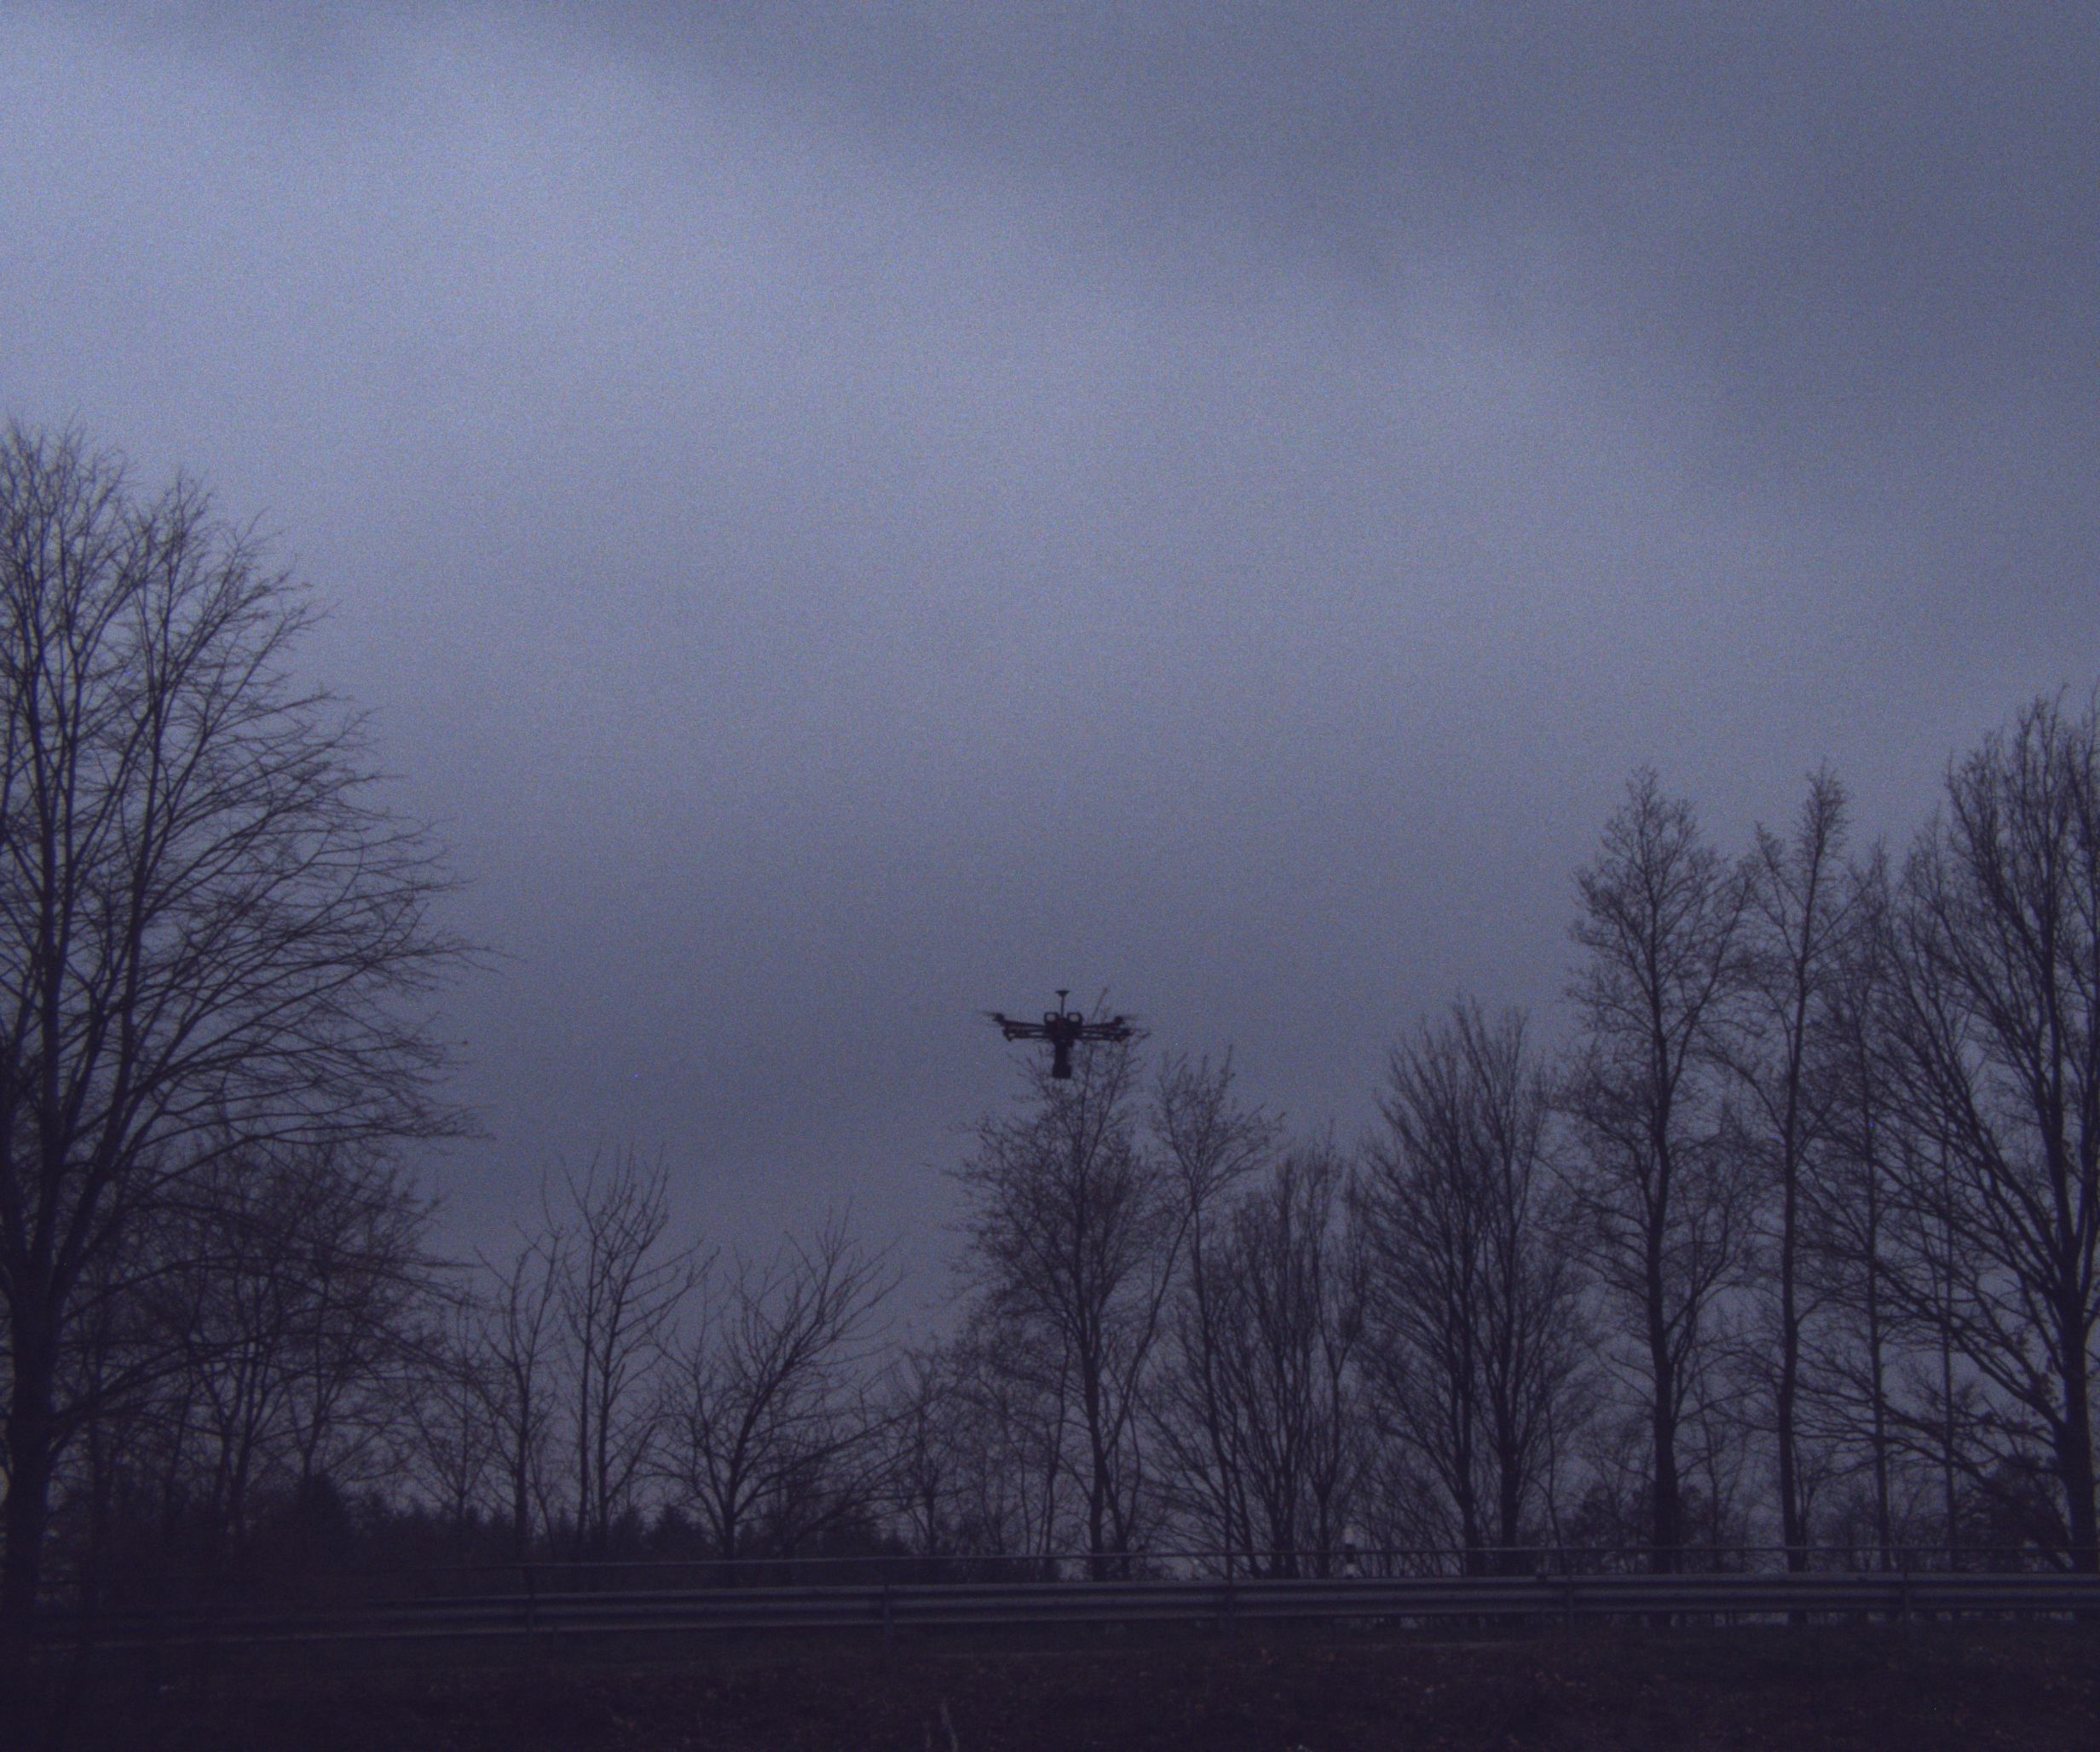Drohne: (947, 961, 1197, 1138)
